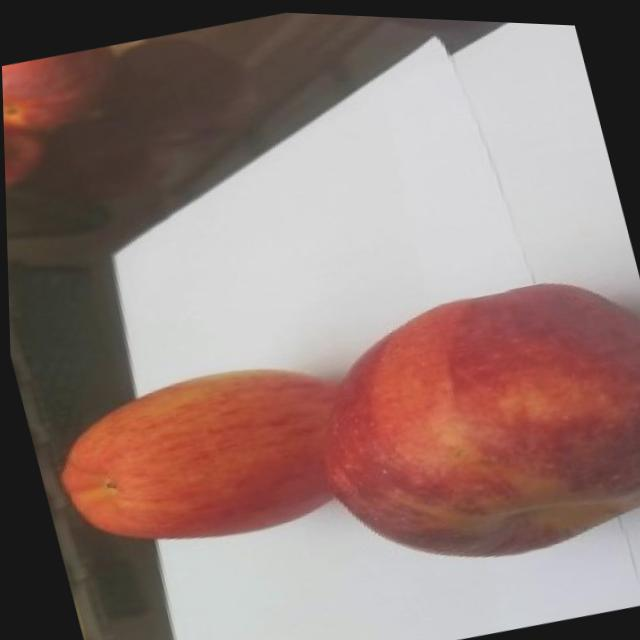Apple: (283, 246, 640, 593), (37, 340, 369, 575)
